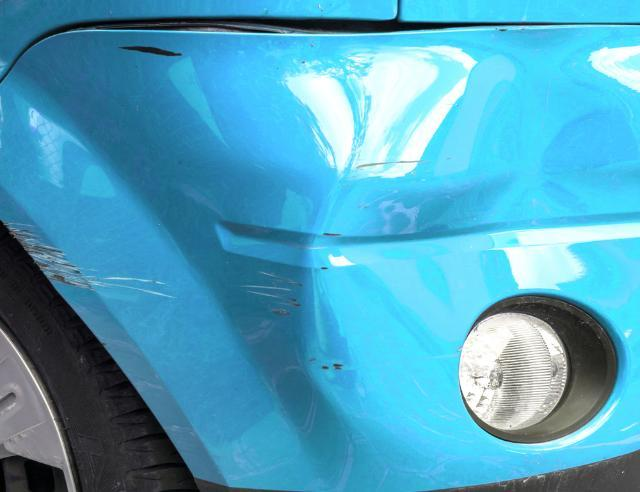dent: (317, 74, 640, 416)
scratch: (3, 221, 187, 305), (241, 265, 305, 344), (356, 157, 454, 170), (114, 44, 188, 59)
